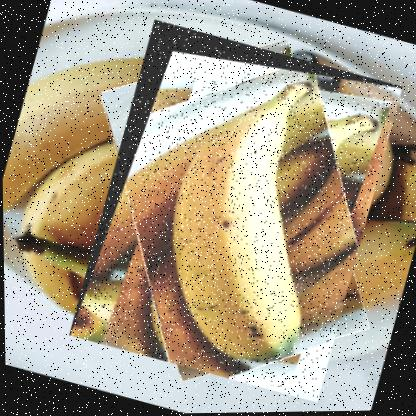banana: (63, 16, 406, 406)
